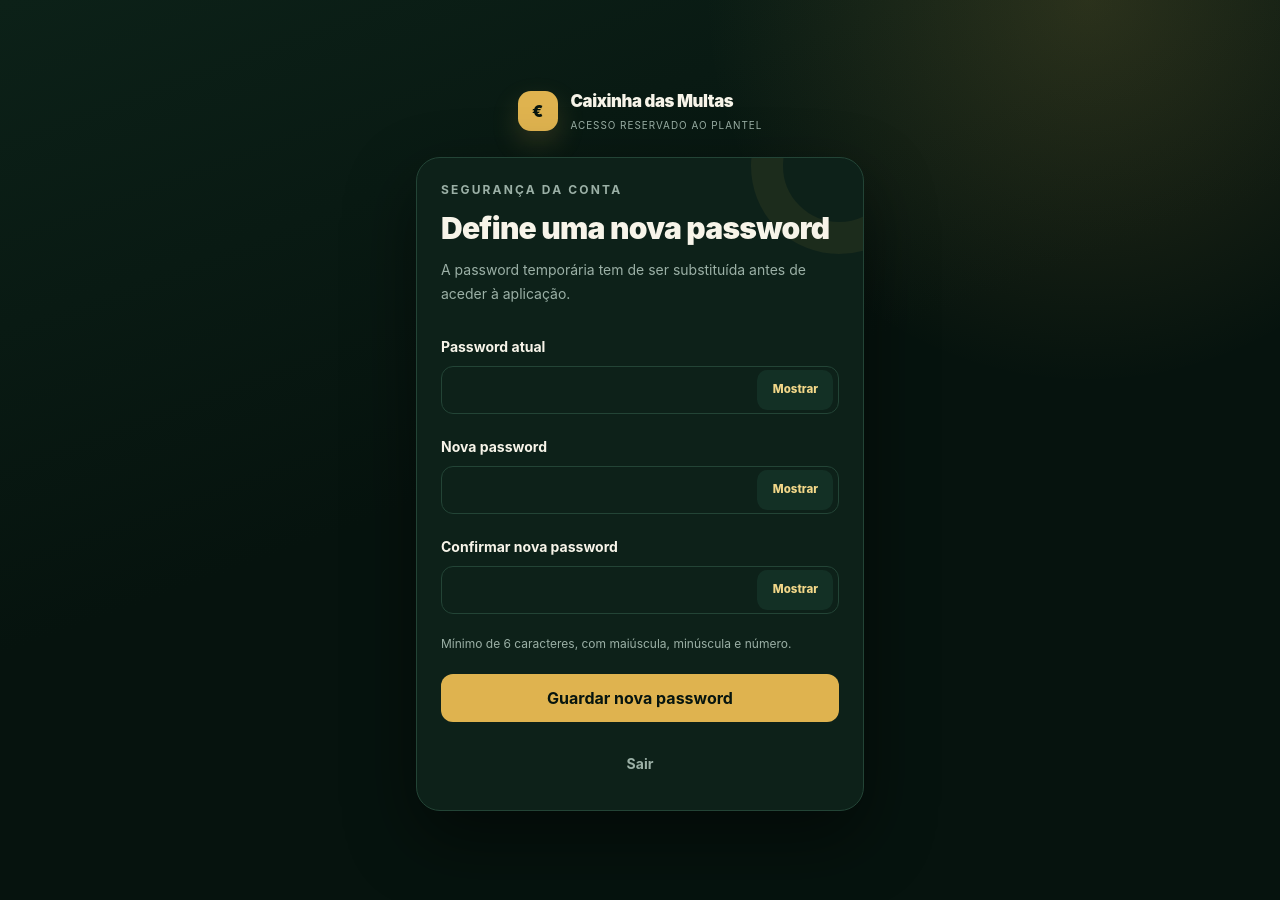
Scenario: autenticação e rotas da aplicação › bloqueia toda a aplicação até substituir a password temporária
Check: the heading "Define uma nova password" is shown, box x1=441 y1=210 x2=839 y2=246
Step 1. Type "Temporaria1" into the password field labelled "Password atual" → (640, 390), box x1=441 y1=366 x2=839 y2=414
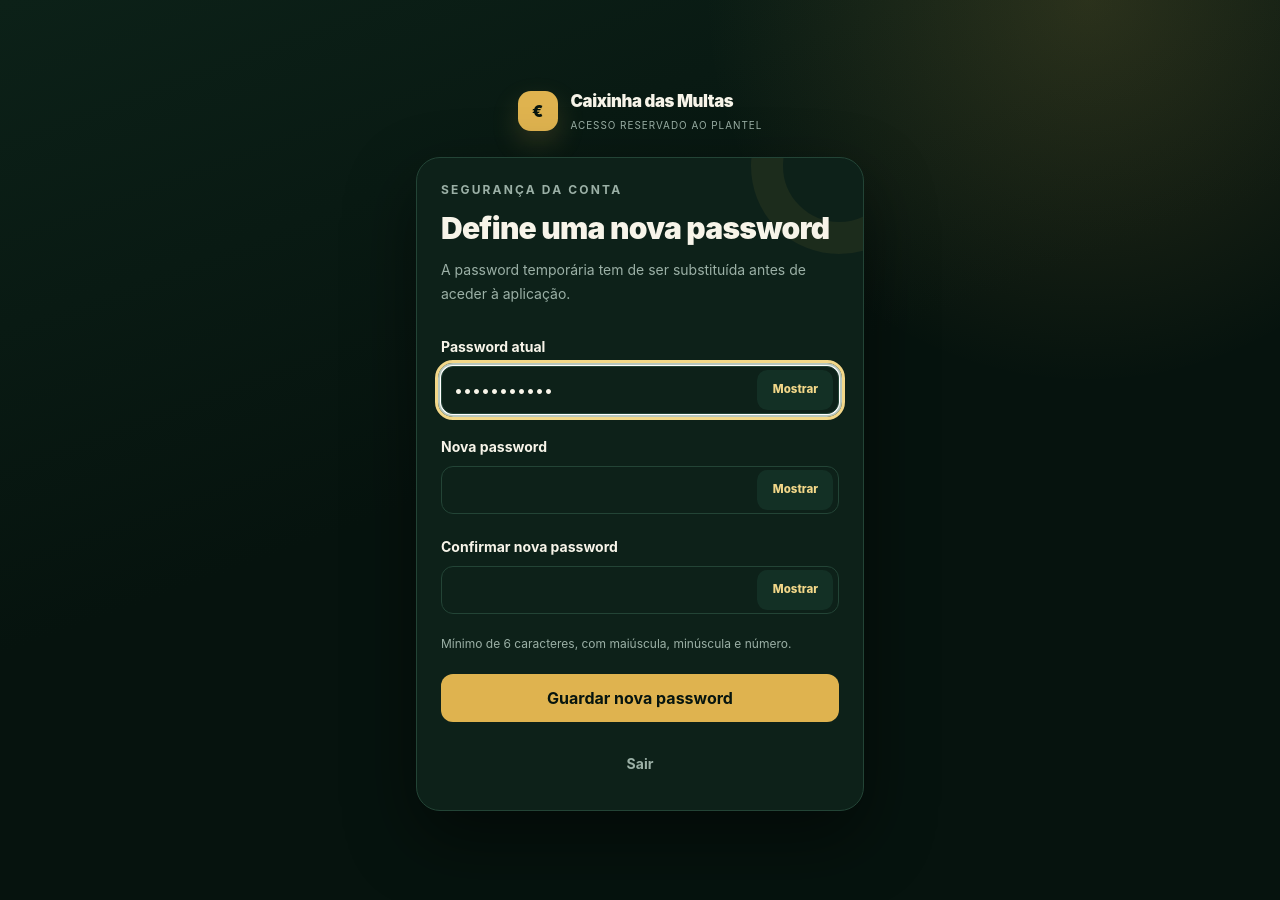
Step 2. Type "Definitiva2" into the password field labelled "Nova password" → (640, 490), box x1=441 y1=466 x2=839 y2=514
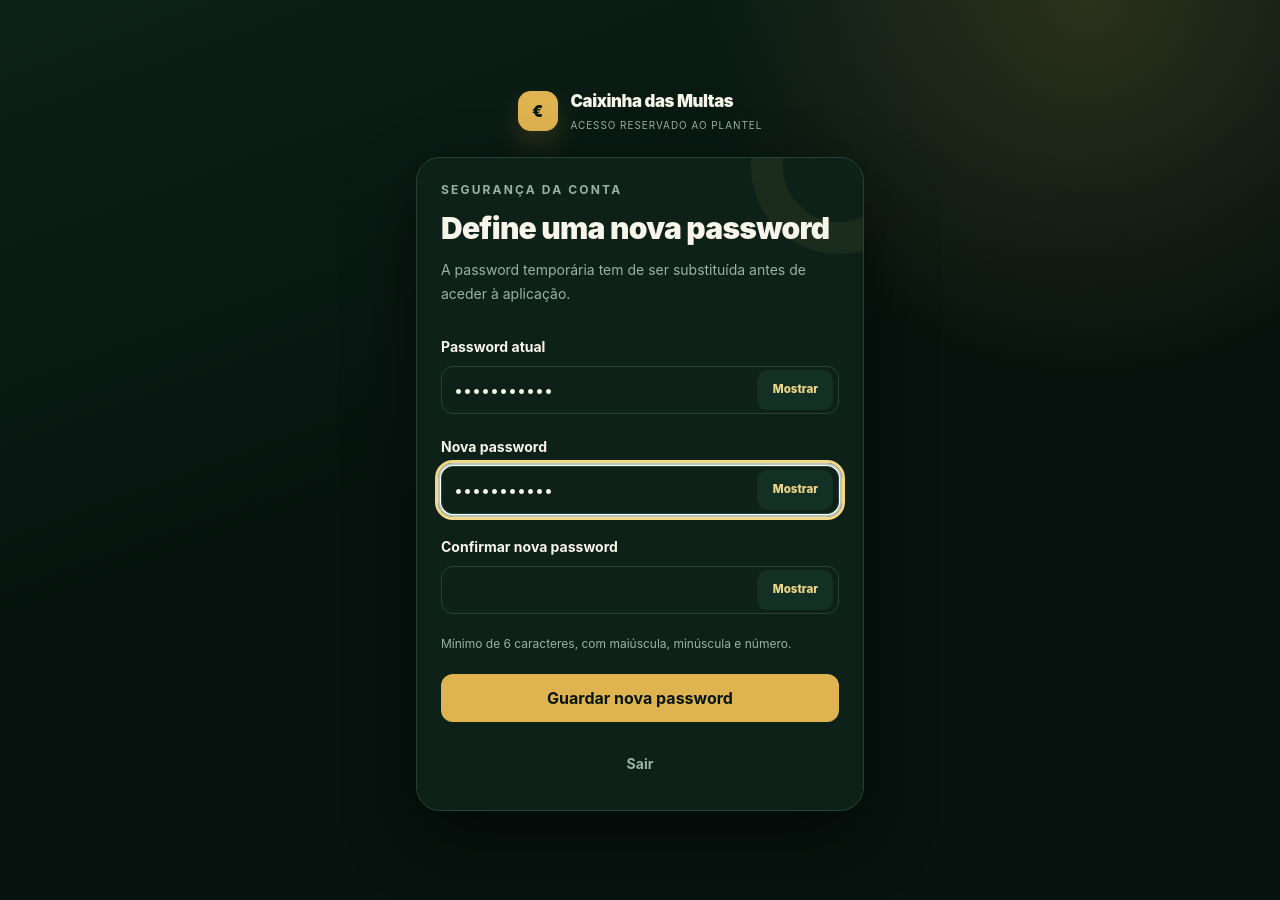
Step 3. Type "Definitiva2" into the password field labelled "Confirmar nova password" → (640, 590), box x1=441 y1=566 x2=839 y2=614
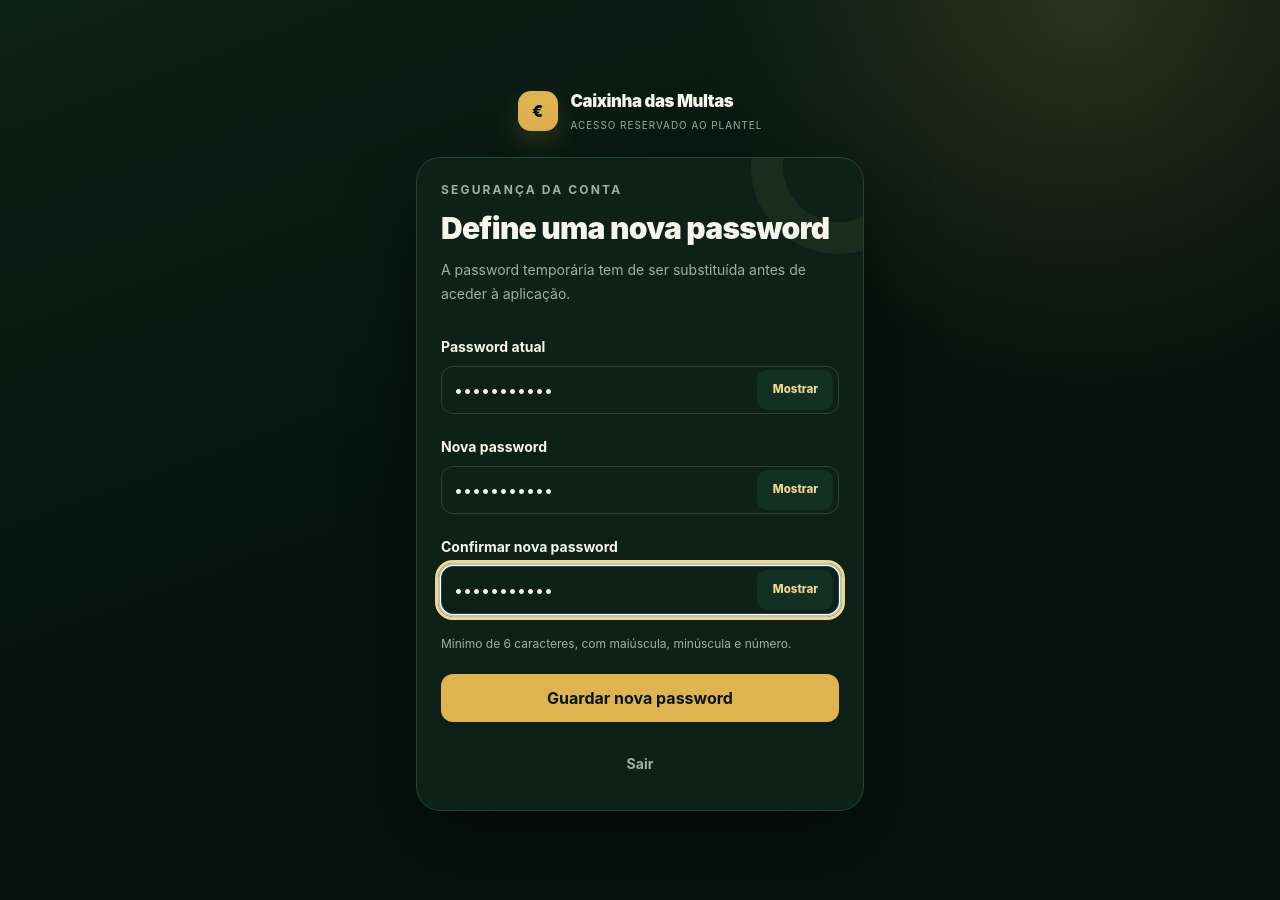
Step 4. Click the button "Guardar nova password" → (640, 698), box x1=441 y1=674 x2=839 y2=722
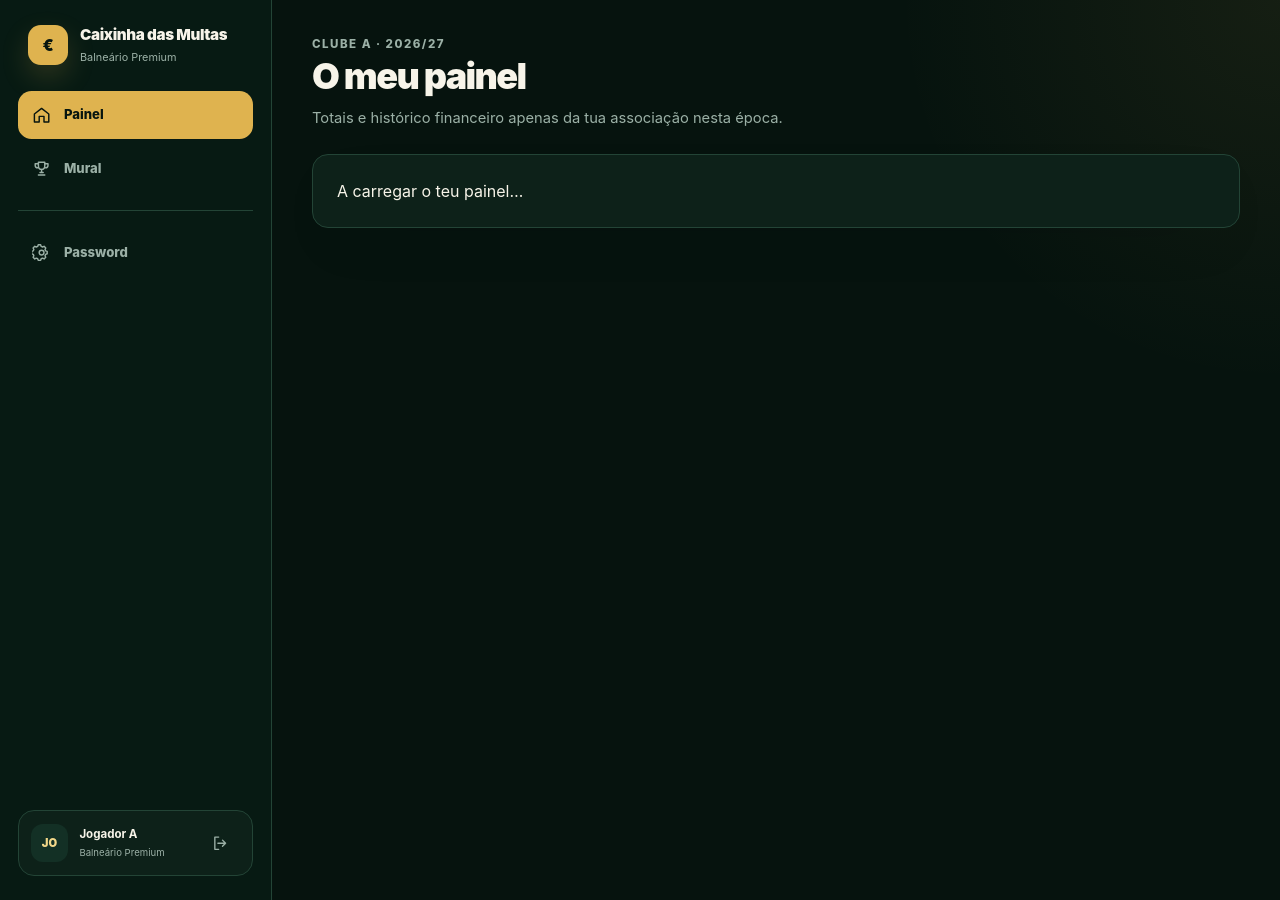
Check: the heading "O meu painel" is shown, box x1=312 y1=54 x2=526 y2=98
